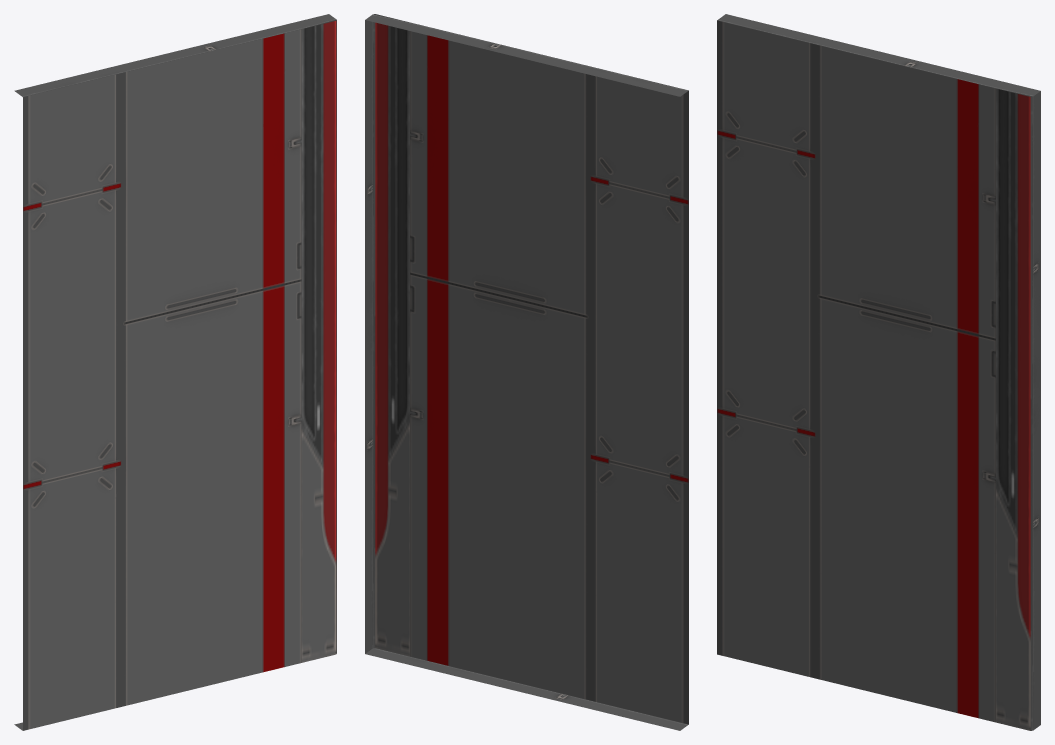
Rendered from Door_Metal.gltf.
The picture shows the model from 3 angles, left to right: view 1: azimuth 30°, elevation 25°; view 2: azimuth 150°, elevation 25°; view 3: azimuth 330°, elevation 25°; orthographic projection.
Visible parts, largest first — view 1: Door_Metal; view 2: Door_Metal; view 3: Door_Metal.
Part boxes in pixels (<box>): Door_Metal: <box>14,14,336,730</box>; Door_Metal: <box>365,14,688,730</box>; Door_Metal: <box>717,14,1040,730</box>.
Size of the model in its own units: 2.11 by 4.05 by 0.1016.
Materials: 2 (2 with a texture image).
